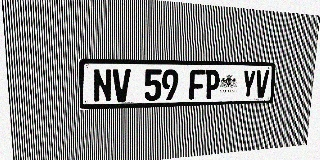5: (144, 69, 162, 101)
9: (162, 69, 178, 100)
F: (189, 70, 205, 100)
N: (93, 69, 112, 102)
P: (204, 70, 220, 99)
V: (112, 69, 131, 102), (255, 70, 269, 98)
Y: (241, 70, 256, 98)
